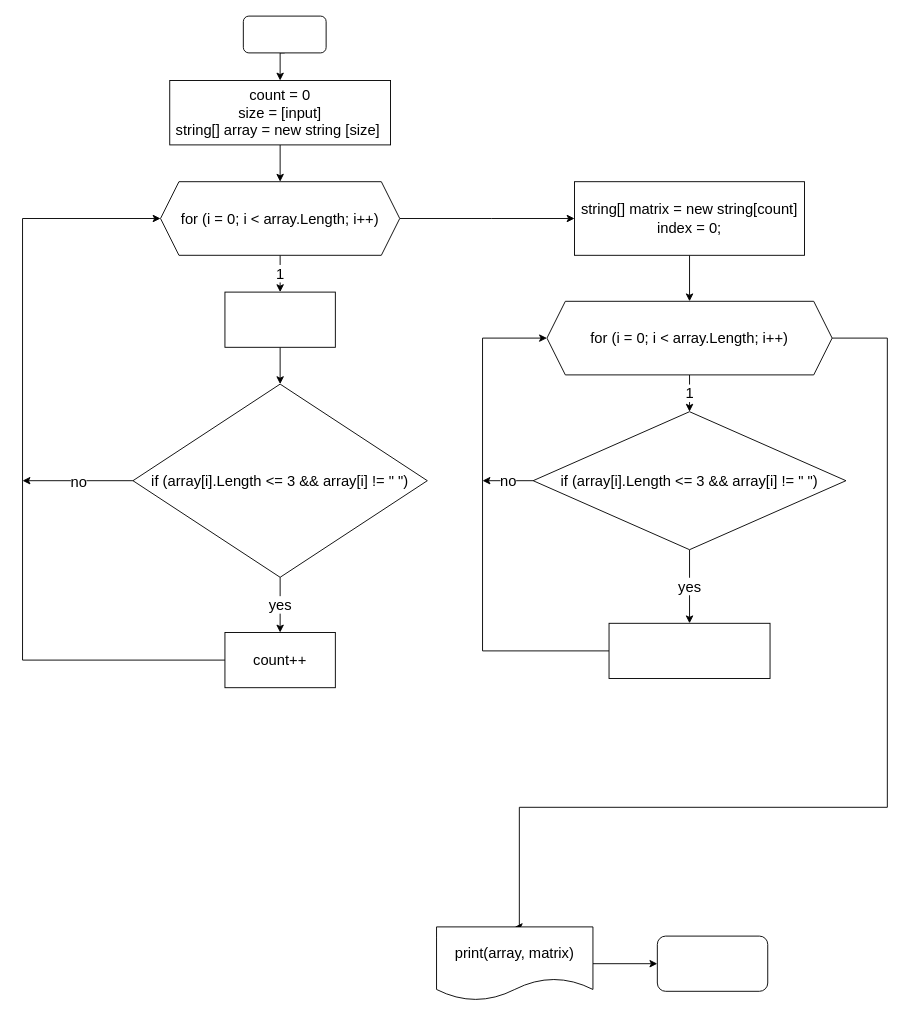
Image size: 911x1017. Some labels were removed from this diagram. The shapes that lost their labels are listed below. From the top down, each one's centre as x and y in pixels, then its label:
At (284,34): "start".
At (279,319): "array[i] = [input]".
At (689,650): "matrix[index] = array[i] index++".
At (712,963): "end".
